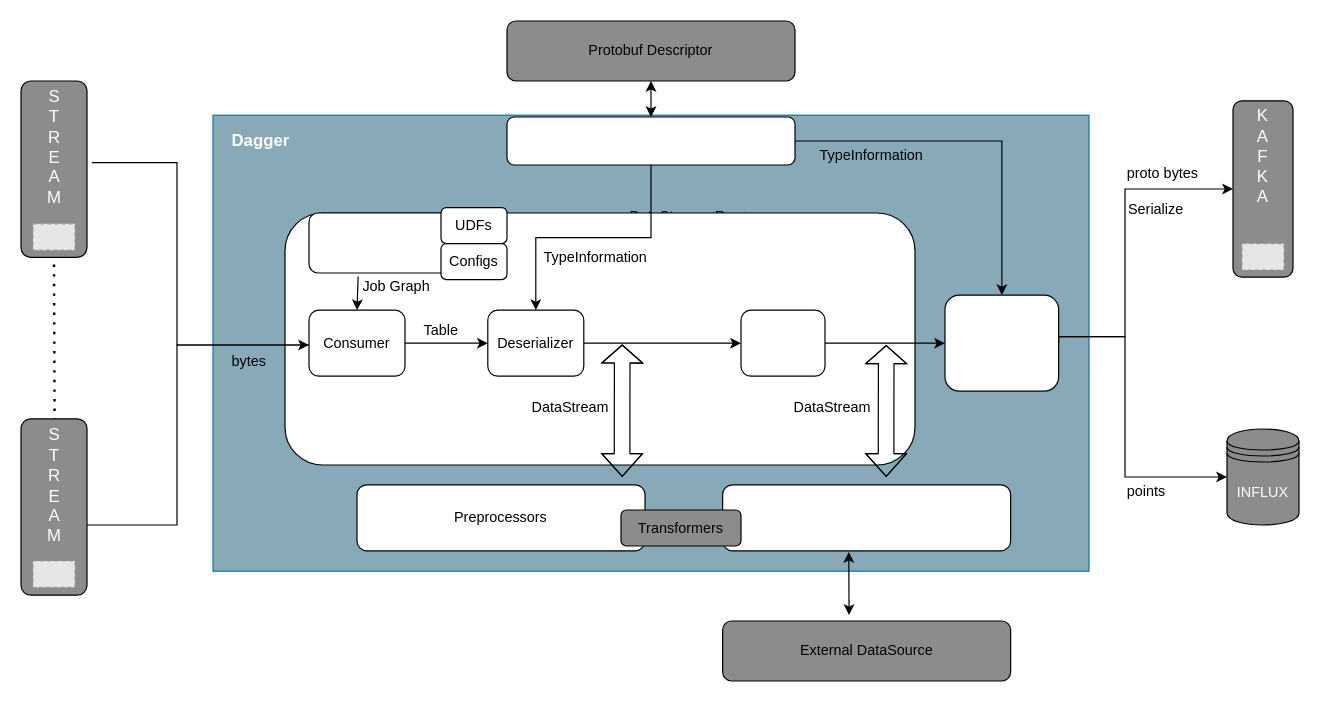
This 1320x702 diagram has some shape labels left out. Grey dashed boxes stand in for pictures. The shapes that lost their labels are listed below. From the top down, each one's box as (x1, y1, x2, y2) in pixels, then its label:
(506, 116, 795, 165): ProtoHandler
(308, 212, 465, 273): StreamManager
(740, 309, 825, 376): SQL Exec
(944, 294, 1059, 391): SinkOrchestrator
(721, 484, 1011, 551): Postprocessors
